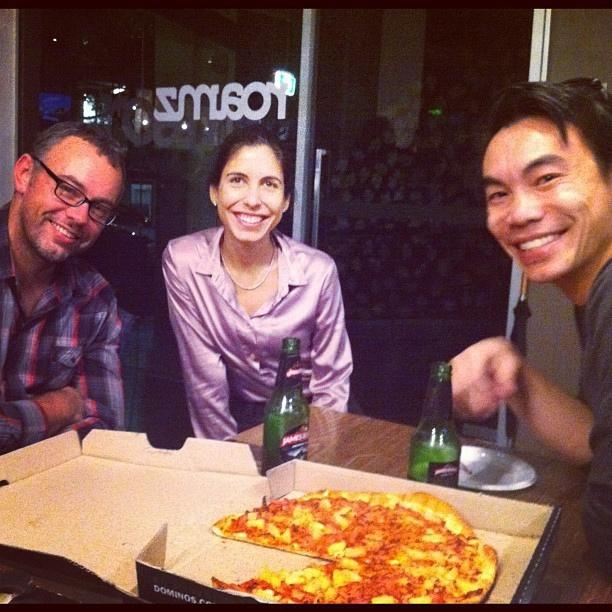pineapple: (304, 576, 330, 594), (298, 568, 320, 584), (456, 579, 479, 594), (328, 542, 346, 559), (338, 558, 362, 570), (442, 568, 458, 586), (274, 528, 291, 544), (309, 521, 324, 539), (371, 595, 399, 604), (344, 546, 366, 557), (286, 574, 306, 586), (266, 522, 280, 538), (423, 534, 445, 544), (423, 568, 439, 581), (259, 565, 272, 581), (332, 570, 345, 586), (408, 596, 432, 604), (318, 498, 332, 511), (324, 586, 336, 600), (270, 576, 282, 588), (279, 568, 289, 581), (336, 507, 352, 515), (246, 519, 260, 528), (344, 510, 355, 521), (422, 580, 434, 590), (437, 567, 447, 578), (294, 508, 302, 520), (247, 512, 259, 520), (232, 532, 247, 538), (291, 543, 301, 552), (416, 567, 427, 575), (334, 514, 344, 522)
